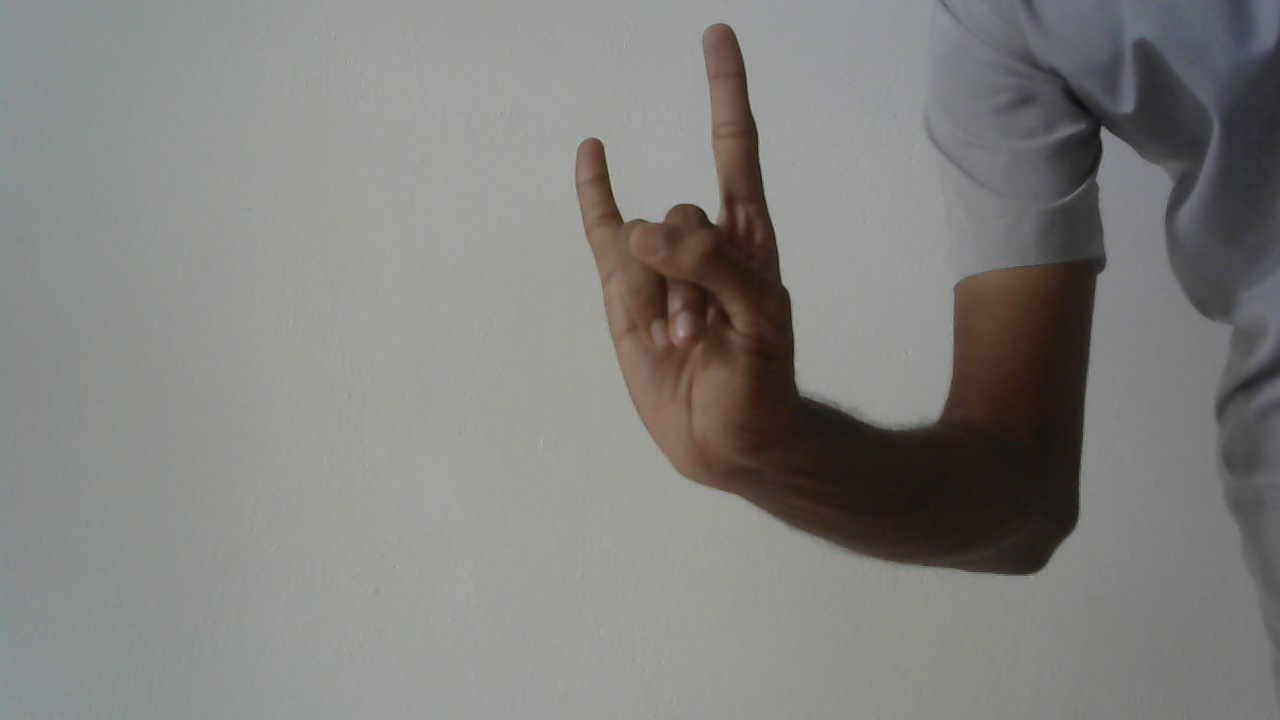iloveyou: (561, 17, 806, 492)
